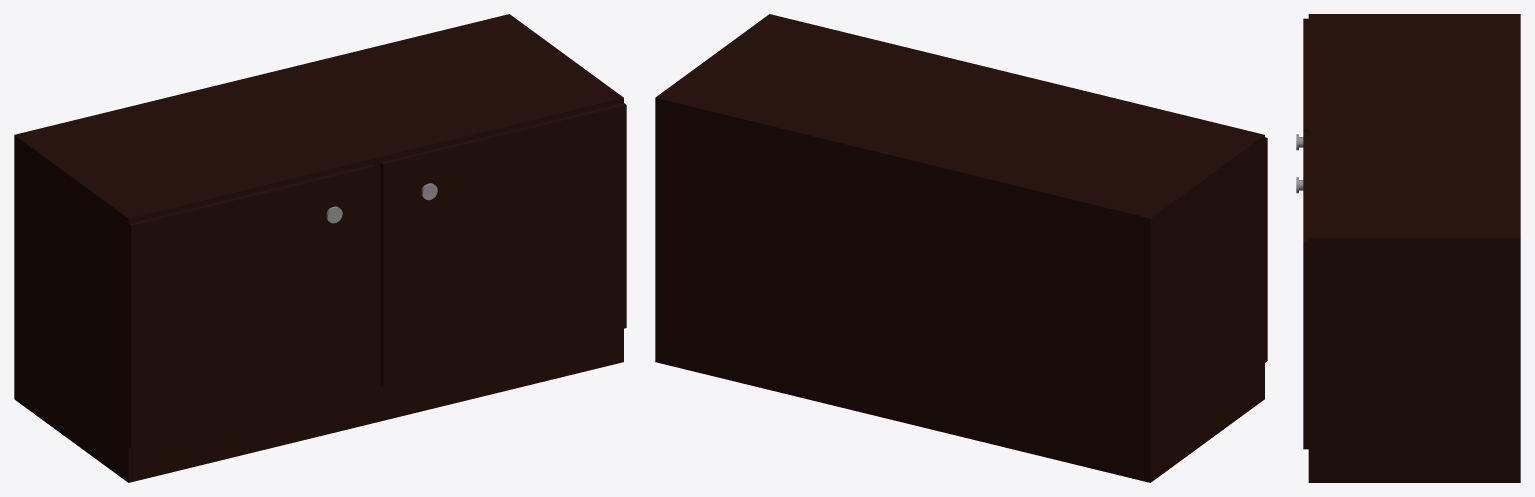
The model's file is Wardrobe.FBX.
3 renders of one model, left to right at view 1: azimuth 30°, elevation 25°; view 2: azimuth 150°, elevation 25°; view 3: azimuth 270°, elevation 25°, orthographic. The views are drawn at different scales.
Parts seen in each view (by area): view 1: Cylinder002; view 2: Cylinder002; view 3: Cylinder002.
Part boxes in pixels (<box>): Cylinder002: <box>14,14,626,482</box>; Cylinder002: <box>655,14,1267,482</box>; Cylinder002: <box>1296,14,1520,482</box>.
Size of the model in its own units: 1417 by 723 by 599.
